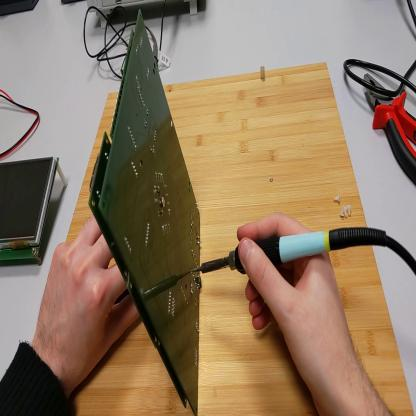hand: (238, 213, 357, 392), (34, 211, 141, 385)
low voltage board: (90, 10, 203, 416)
oscilloscope: (88, 1, 201, 27)
pliers: (363, 63, 416, 182)
socket: (2, 3, 39, 18), (62, 2, 85, 7)
welder probe tip: (192, 227, 387, 275)
working area: (53, 61, 416, 416)
